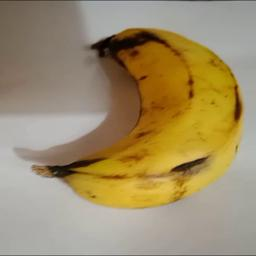Banana Semifresh: (36, 25, 244, 209)
